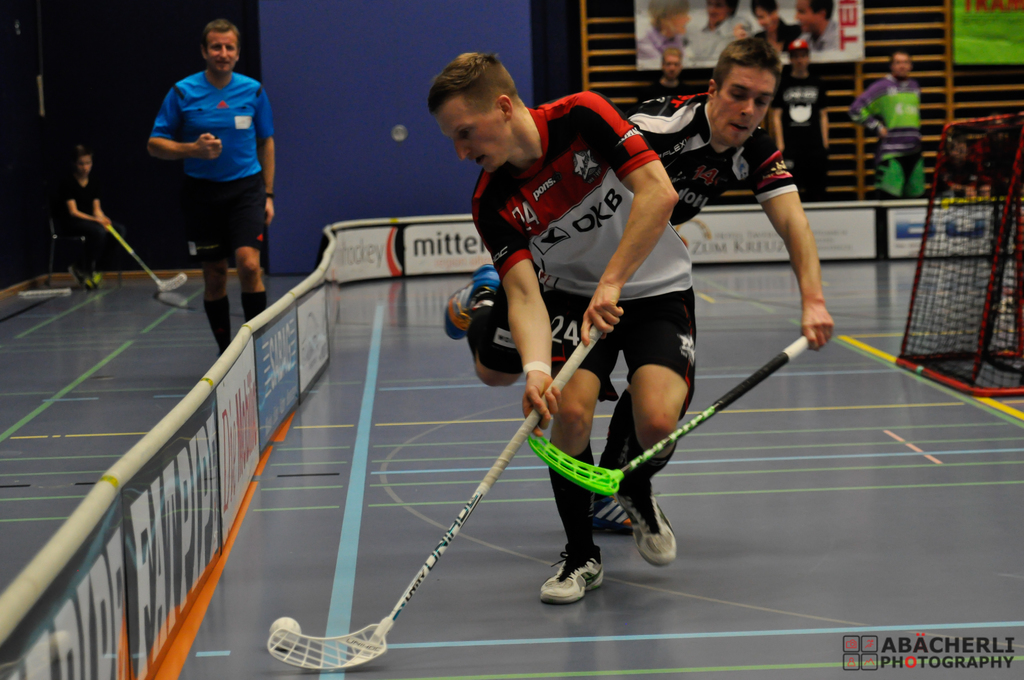Person: (444, 38, 835, 533), (426, 51, 695, 603), (145, 18, 273, 358), (848, 47, 927, 196), (769, 38, 829, 198), (58, 144, 110, 289), (690, 0, 750, 58), (735, 0, 797, 53), (637, 0, 691, 60), (638, 47, 689, 97), (796, 0, 838, 50)
